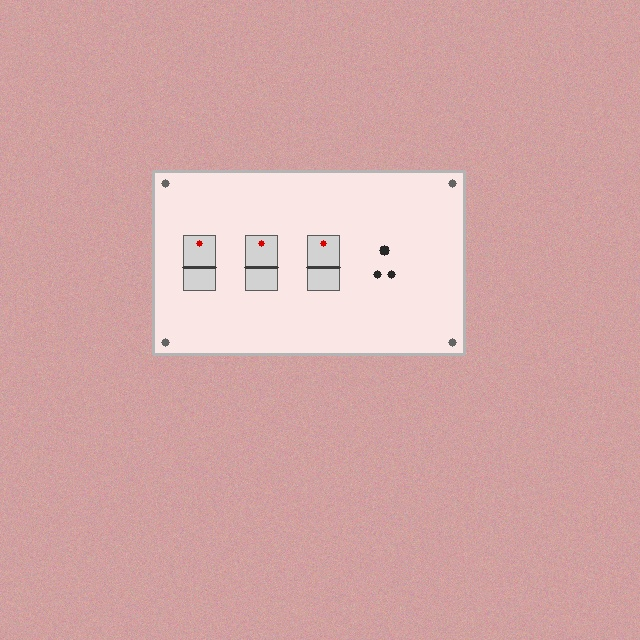switchboard: (153, 171, 464, 354)
